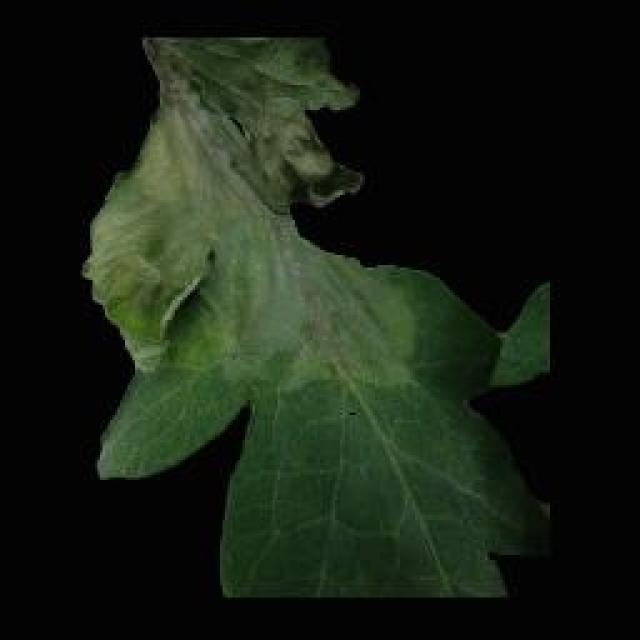Tomato___Late_blight: (82, 38, 555, 600)
